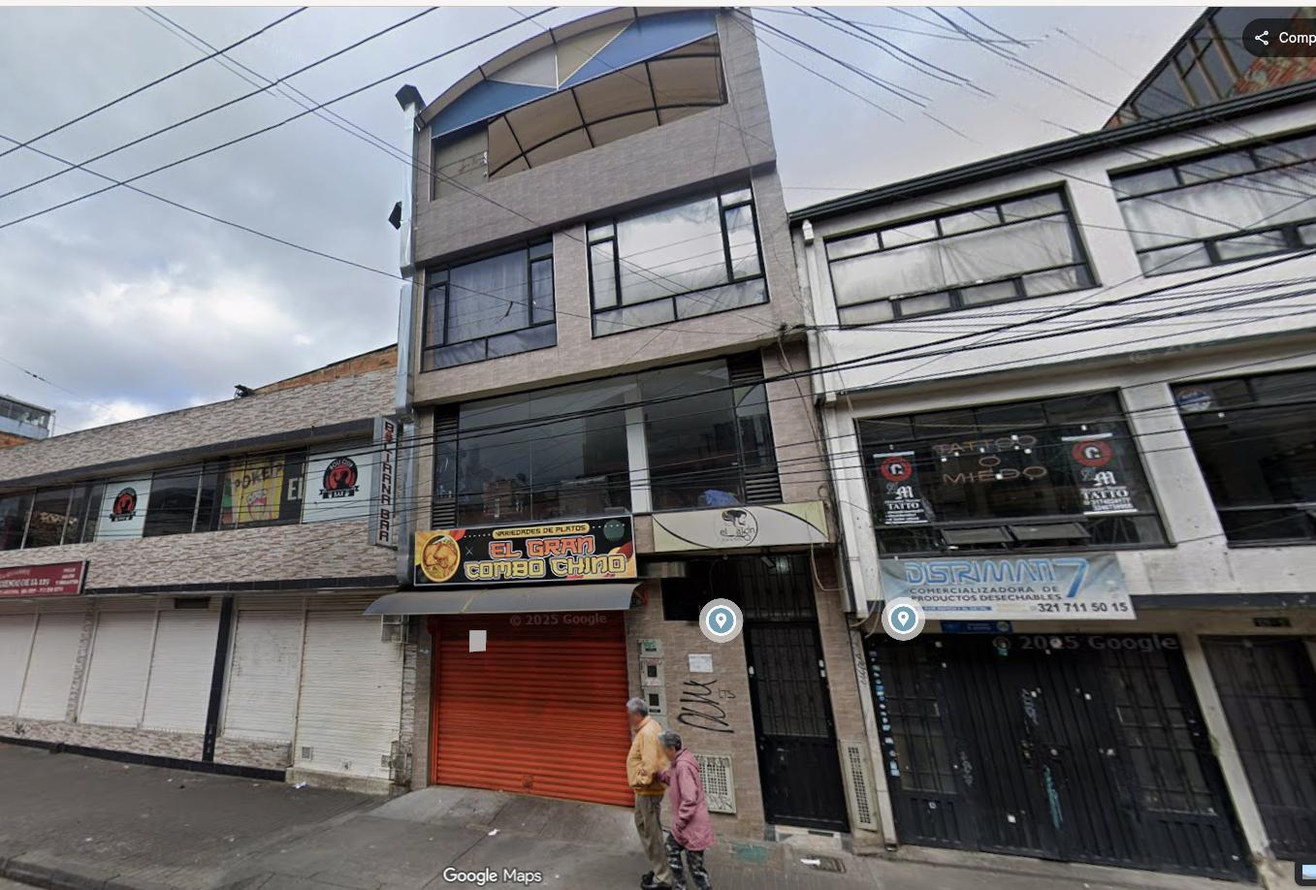casa: (791, 6, 1315, 878), (394, 10, 852, 829), (0, 346, 415, 792)
